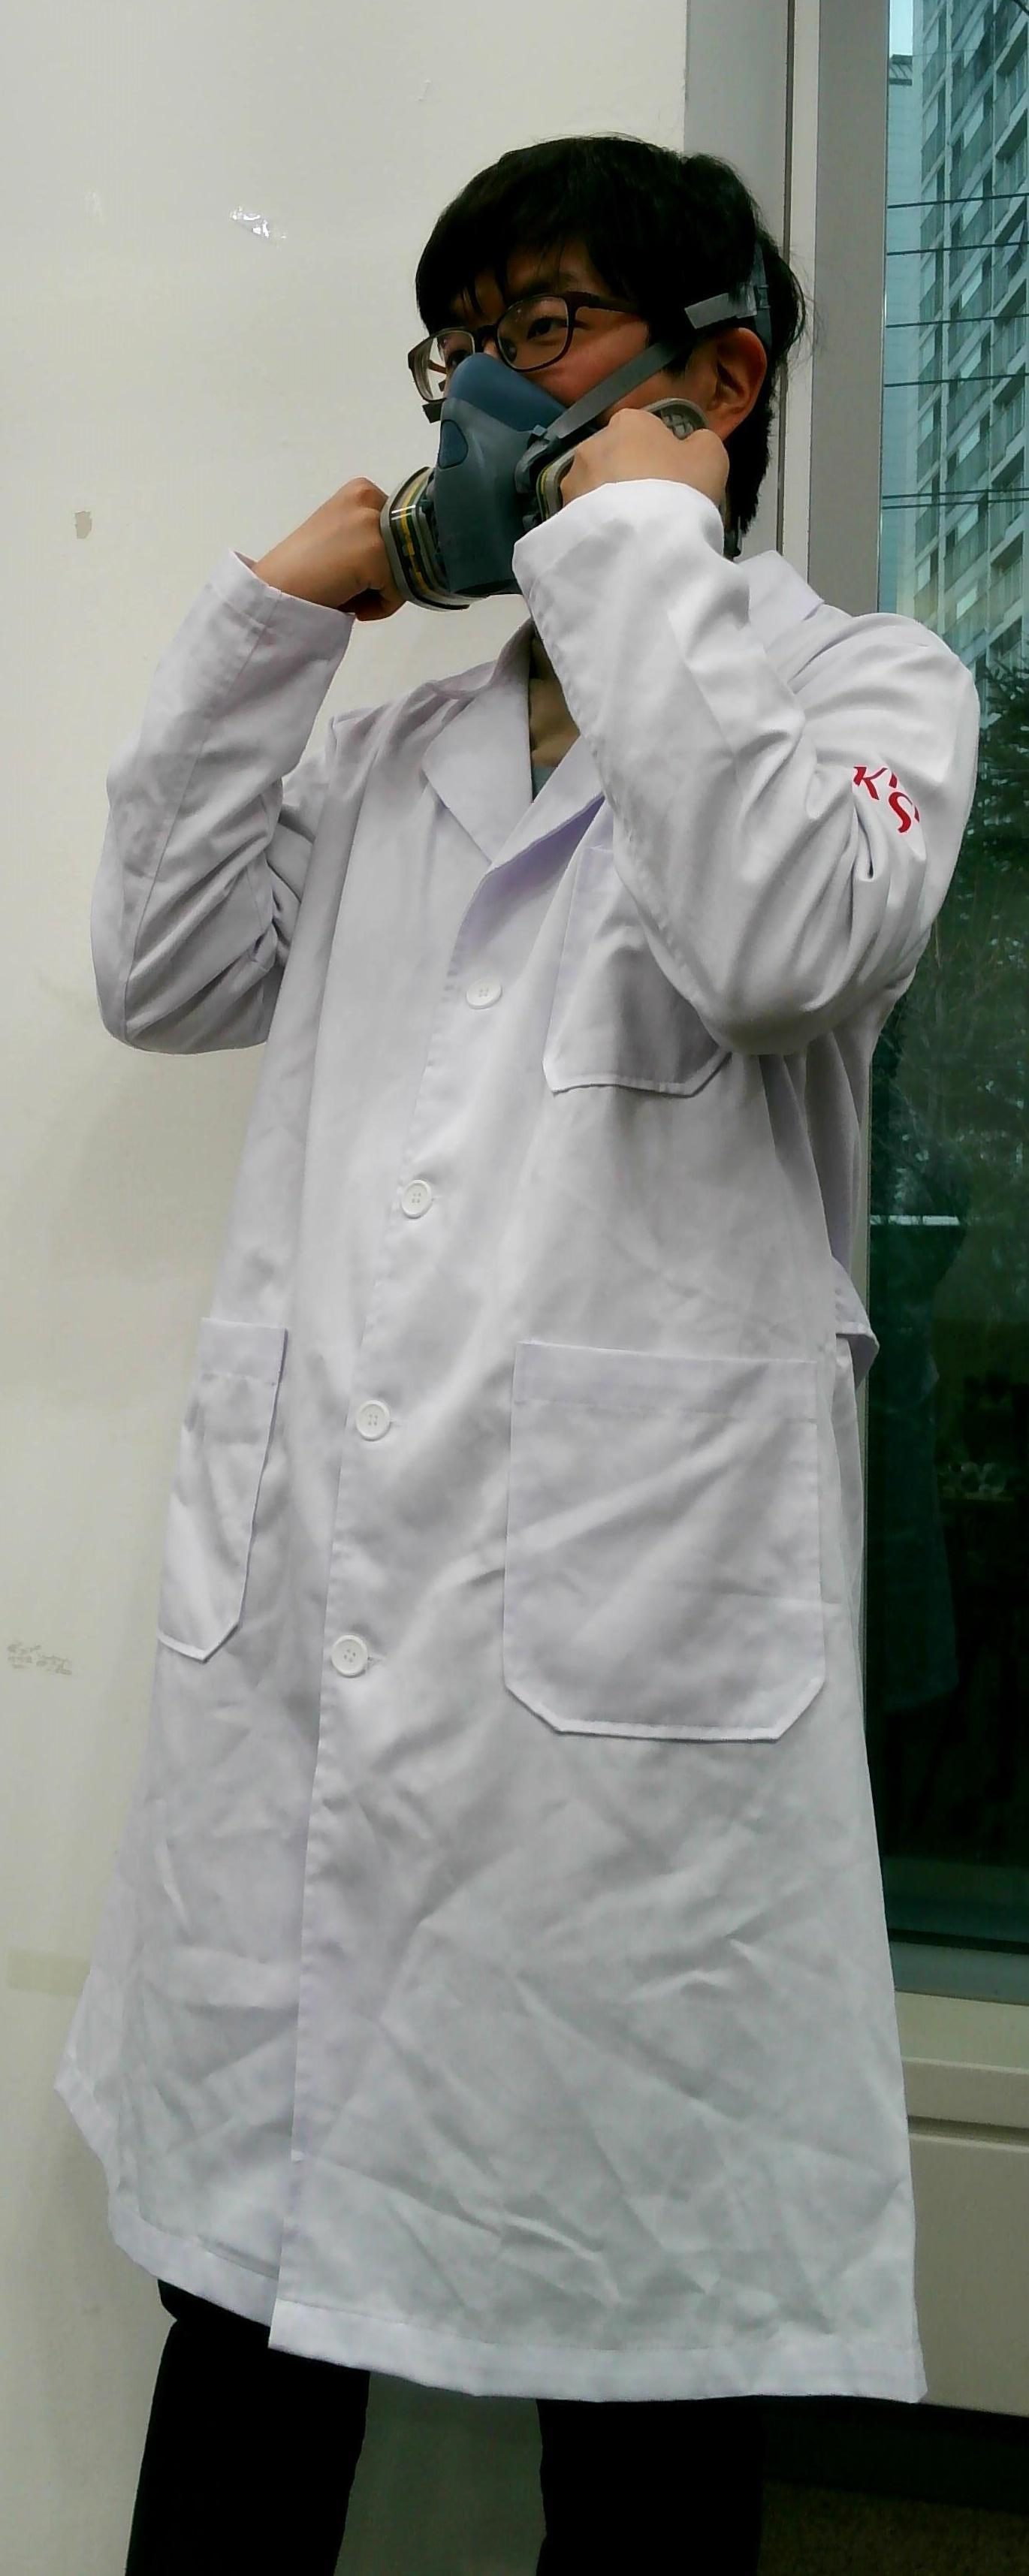lab_coat: (136, 738, 899, 2384)
